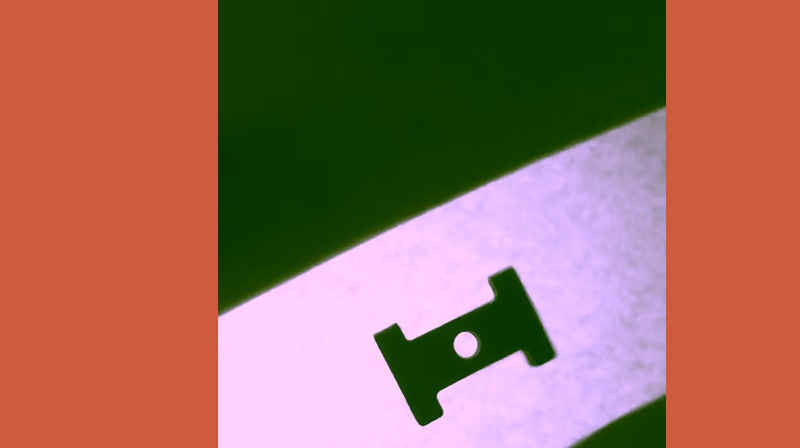O002: (372, 259, 559, 429)
